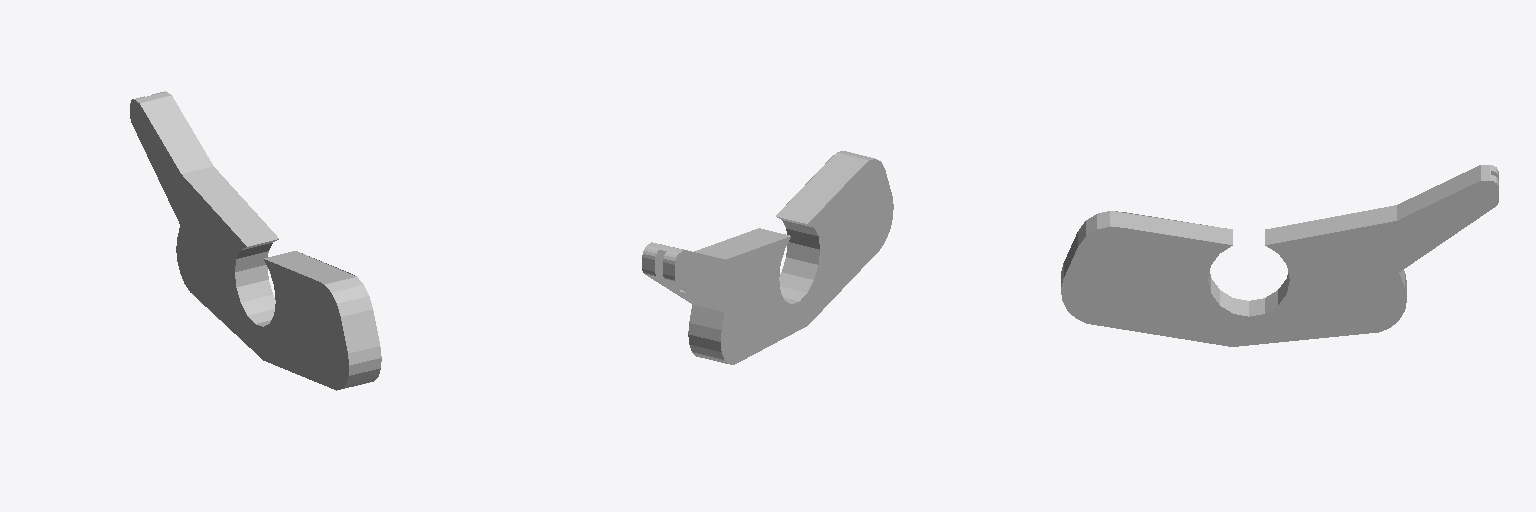
The model's file is front_bracket_2.obj.
3 renders of one model, left to right at view 1: azimuth 30°, elevation 25°; view 2: azimuth 150°, elevation 25°; view 3: azimuth 270°, elevation 25°, orthographic.
Visible parts, largest first — view 1: front_pipe_bracket_2; view 2: front_pipe_bracket_2; view 3: front_pipe_bracket_2.
Part boxes in pixels (left/top/right/bottom): front_pipe_bracket_2: left=130, top=91, right=381, bottom=390; front_pipe_bracket_2: left=642, top=151, right=893, bottom=364; front_pipe_bracket_2: left=1061, top=165, right=1498, bottom=346.
Bounding box in the file's own units: 0.0001 × 0.0005 × 0.0011.